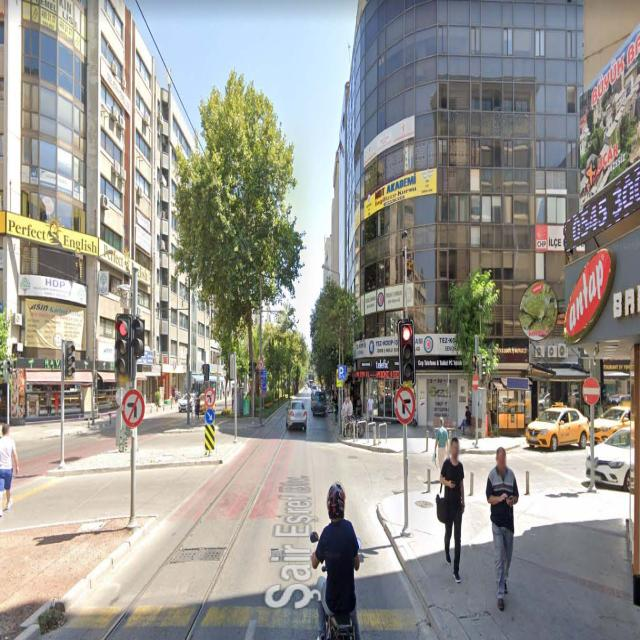girisyok: (582, 378, 600, 408)
kirmizi: (398, 322, 414, 383), (117, 317, 129, 379)
sagadonulmez: (396, 387, 414, 422)
soladonulmez: (122, 390, 144, 426)
